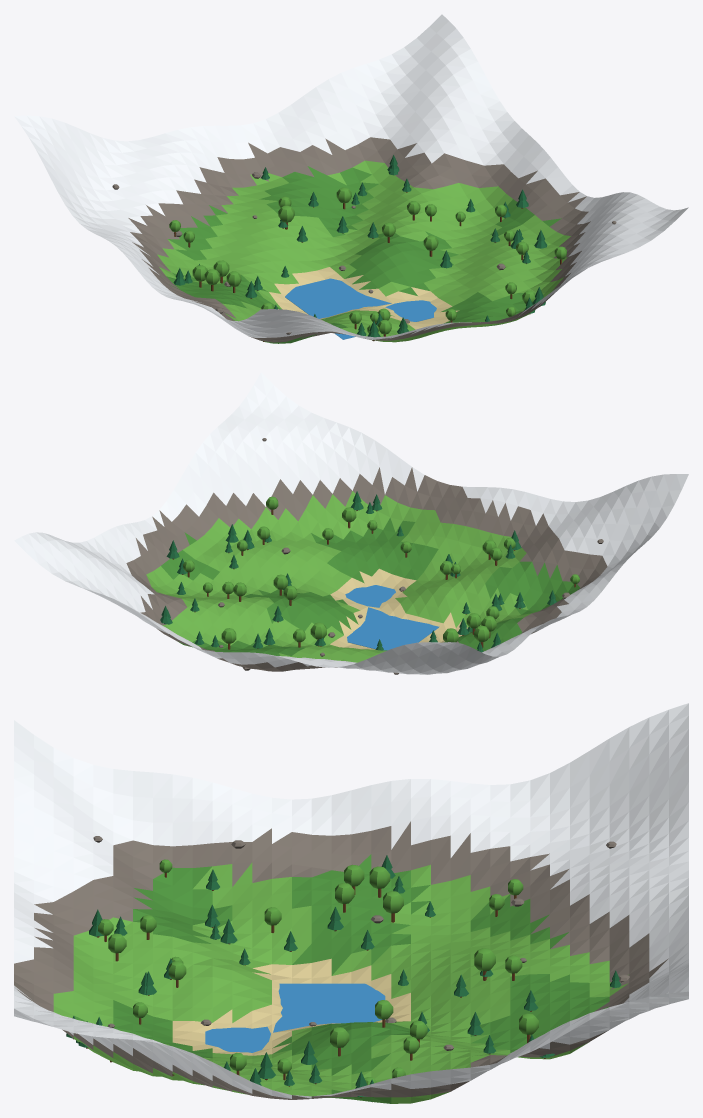
File: FinaleNature.fbx
The picture shows the model from 3 angles, top to bottom: view 1: azimuth 30°, elevation 25°; view 2: azimuth 150°, elevation 25°; view 3: azimuth 270°, elevation 25°; orthographic projection. The views are drawn at different scales.
Parts seen in each view (by area): view 1: FinaleNature; view 2: FinaleNature; view 3: FinaleNature.
Boxes of the visible parts, x1,y1,x2,y2 form: FinaleNature: [14, 14, 688, 343]; FinaleNature: [14, 372, 688, 674]; FinaleNature: [14, 703, 688, 1103].
Bounding box in the file's own units: 36000 × 11289 × 36000.
